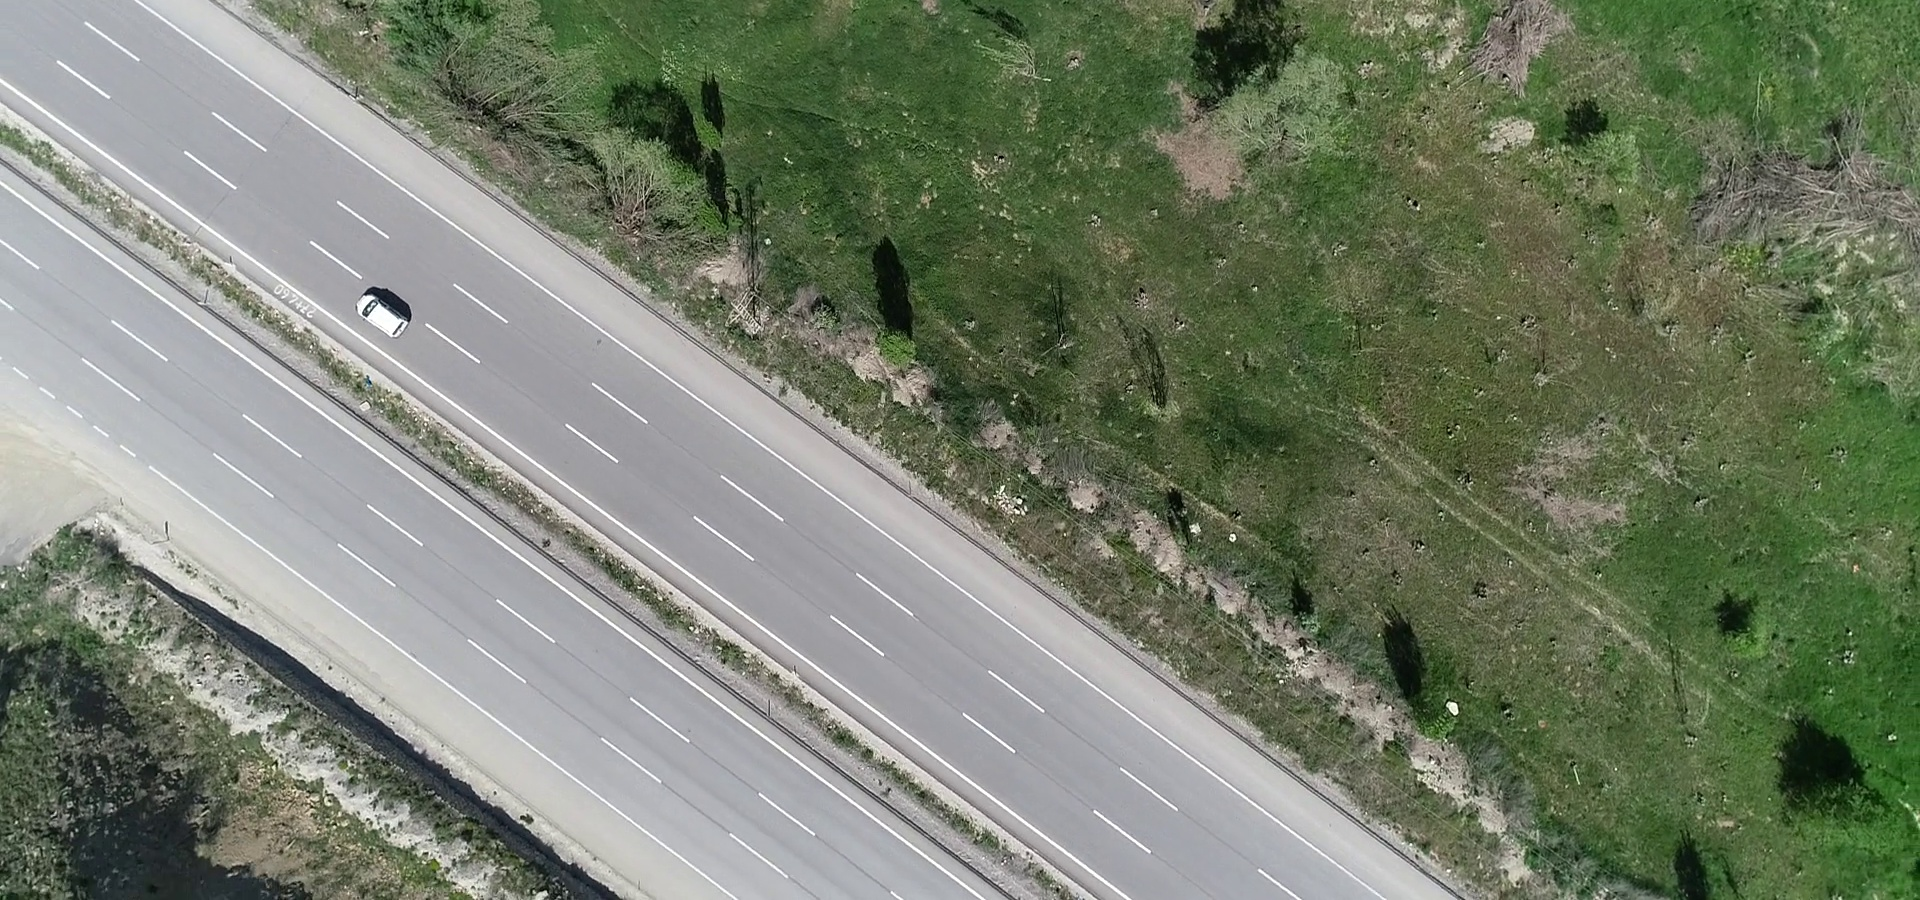arac: (351, 280, 414, 342)
